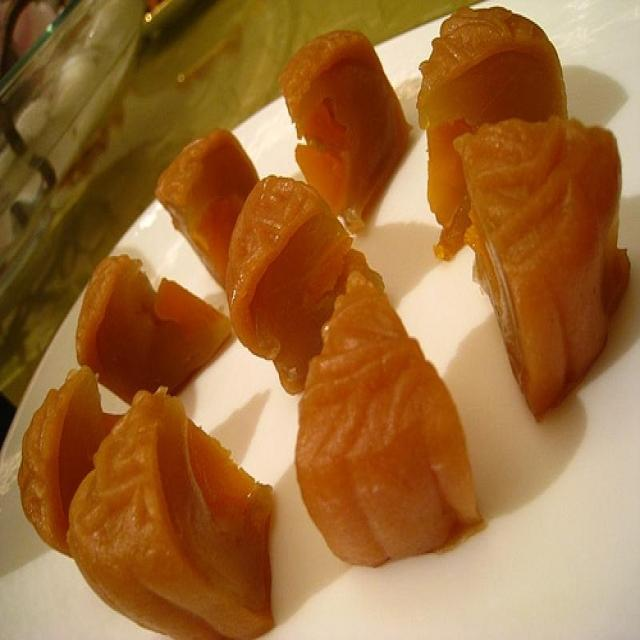蛋糕甜品: (11, 7, 630, 621)
